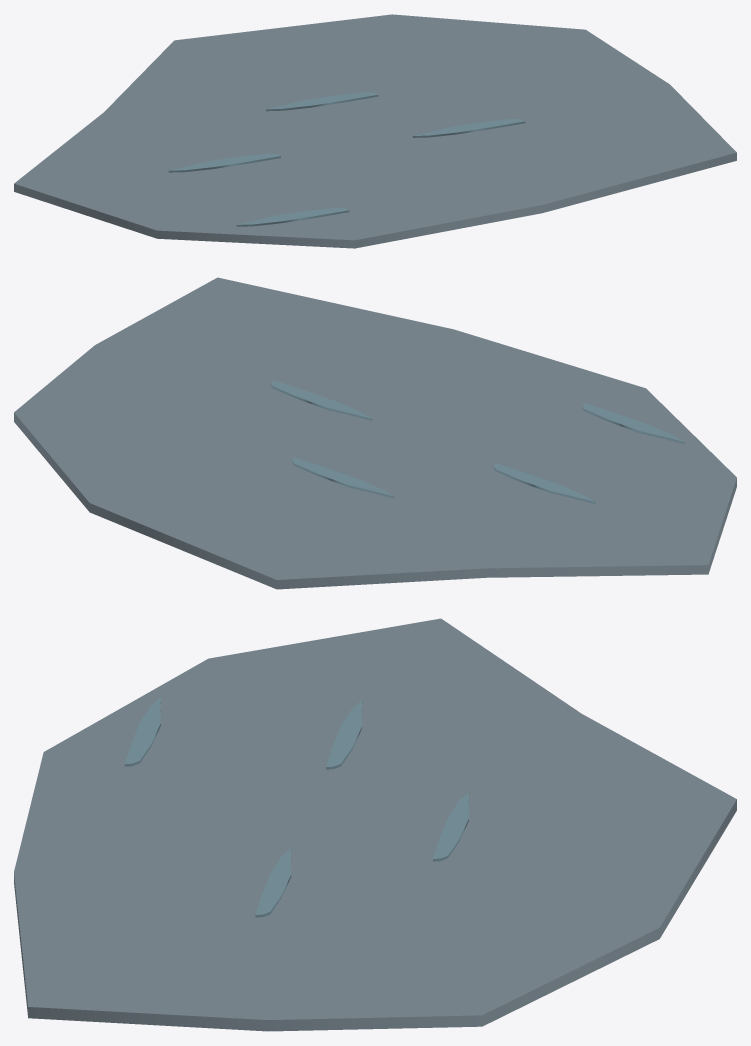
File: patch-puddle-clean.glb
3 renders of one model, top to bottom at view 1: azimuth 30°, elevation 25°; view 2: azimuth 150°, elevation 25°; view 3: azimuth 270°, elevation 25°, orthographic. The views are drawn at different scales.
Parts seen in each view (by area): view 1: patch-puddle-kit-clean-shade, patch-puddle-kit-clean-metal; view 2: patch-puddle-kit-clean-shade, patch-puddle-kit-clean-metal; view 3: patch-puddle-kit-clean-shade, patch-puddle-kit-clean-metal.
Boxes of the visible parts, box(x1,y1,x2,y2) form: patch-puddle-kit-clean-shade: box(14, 14, 736, 248); patch-puddle-kit-clean-metal: box(168, 92, 525, 226); patch-puddle-kit-clean-shade: box(14, 277, 736, 589); patch-puddle-kit-clean-metal: box(270, 380, 684, 504); patch-puddle-kit-clean-shade: box(14, 618, 736, 1031); patch-puddle-kit-clean-metal: box(124, 697, 469, 917).
Bounding box in the file's own units: 2.66 × 0.0475 × 2.02.
